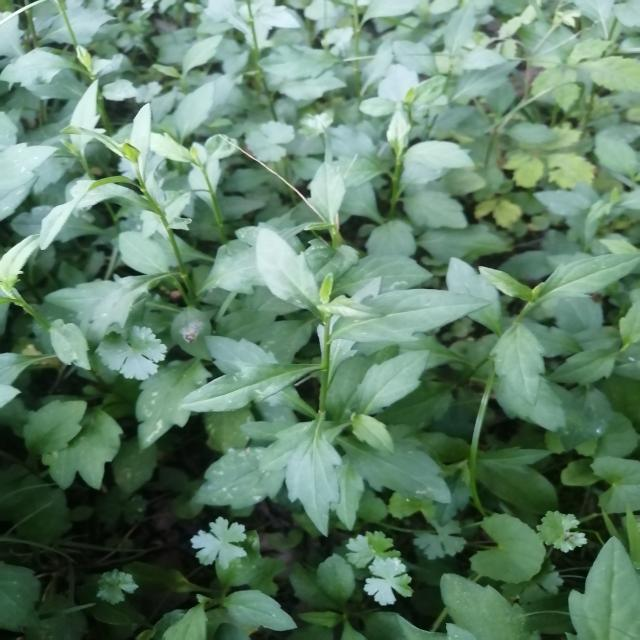Indian aster: (244, 254, 521, 496), (52, 116, 290, 290)
